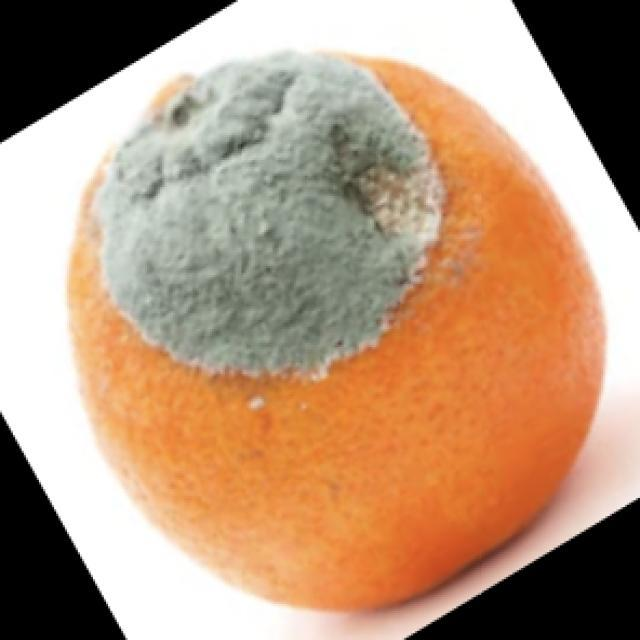sedikit-busuk: (69, 54, 604, 609), (96, 51, 442, 376)
